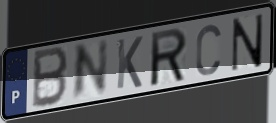B: (30, 44, 70, 111)
C: (194, 22, 223, 78)
K: (115, 34, 145, 91)
N: (70, 37, 110, 104), (229, 11, 266, 74)
R: (149, 26, 189, 89)
